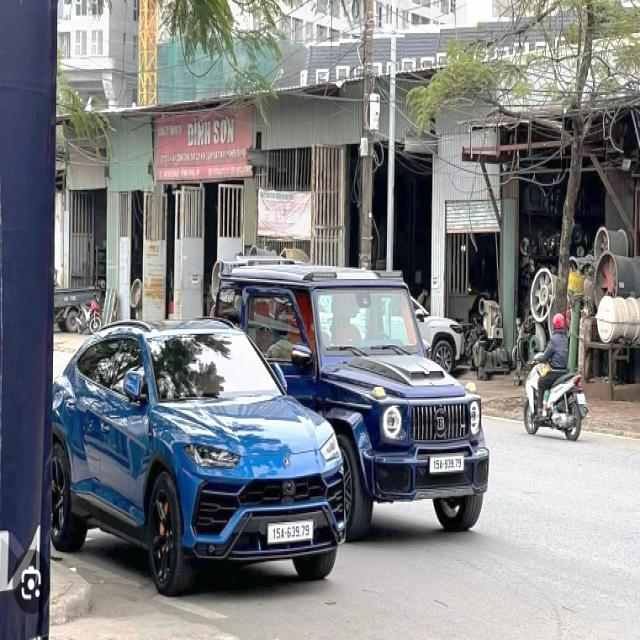license_plate: (269, 523, 313, 542), (432, 457, 465, 472)
